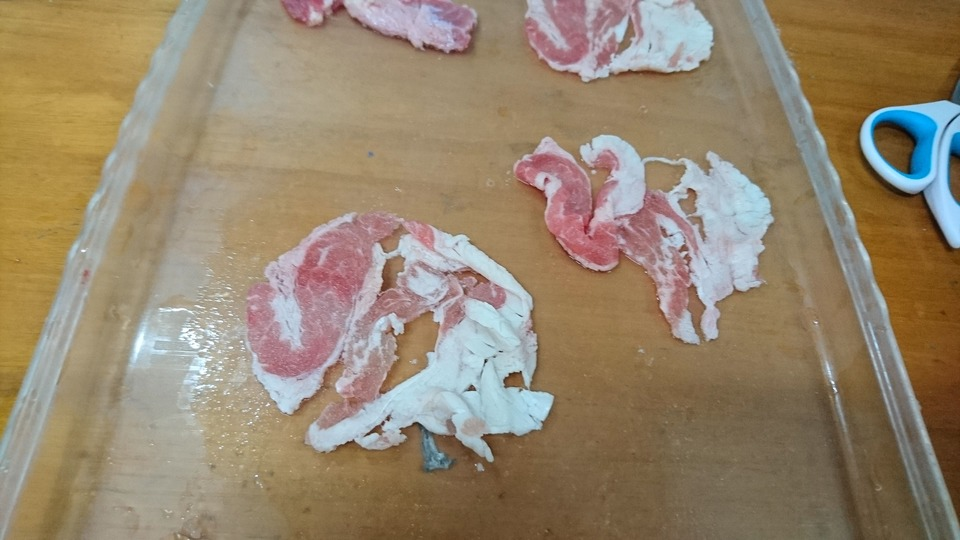restructured meat: (256, 199, 546, 476), (512, 118, 769, 342), (507, 1, 752, 89)
